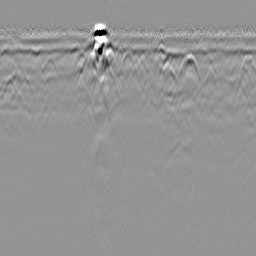cavity: (118, 48, 135, 76)
